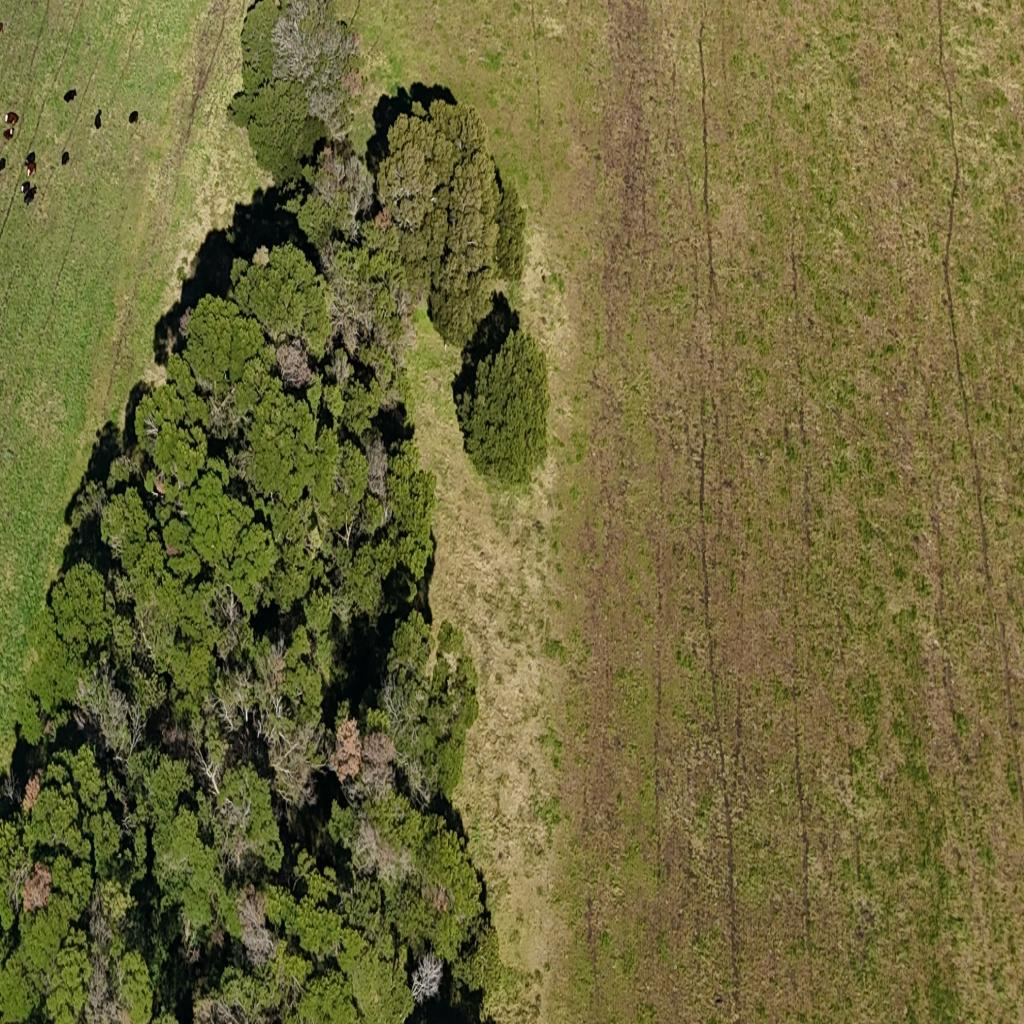cow: (4, 110, 19, 125), (63, 88, 77, 104), (2, 125, 16, 141), (24, 188, 36, 206), (59, 150, 70, 168), (25, 152, 37, 168), (25, 162, 38, 176), (129, 110, 140, 126), (94, 111, 102, 129), (21, 180, 30, 192)
